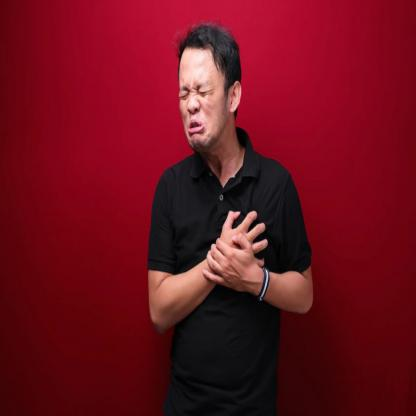pain: (178, 76, 218, 108)
